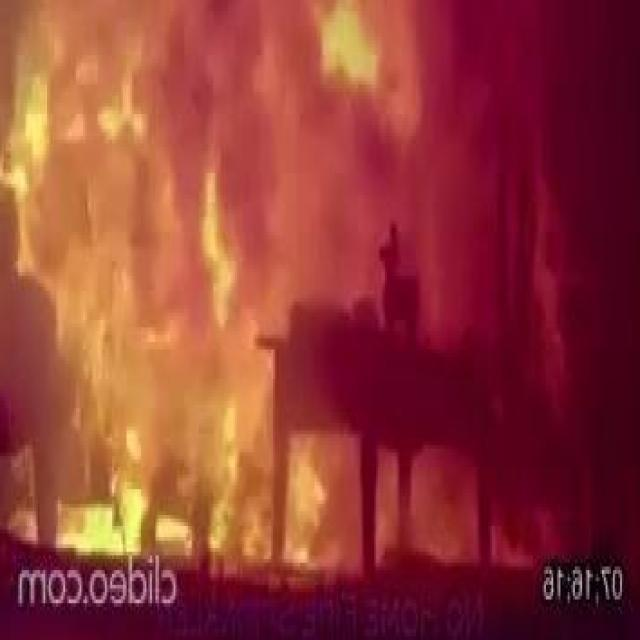smoke: (0, 0, 271, 548), (277, 0, 476, 235), (530, 165, 572, 424), (482, 486, 596, 578), (291, 442, 358, 566), (410, 456, 476, 563), (380, 456, 398, 556)
